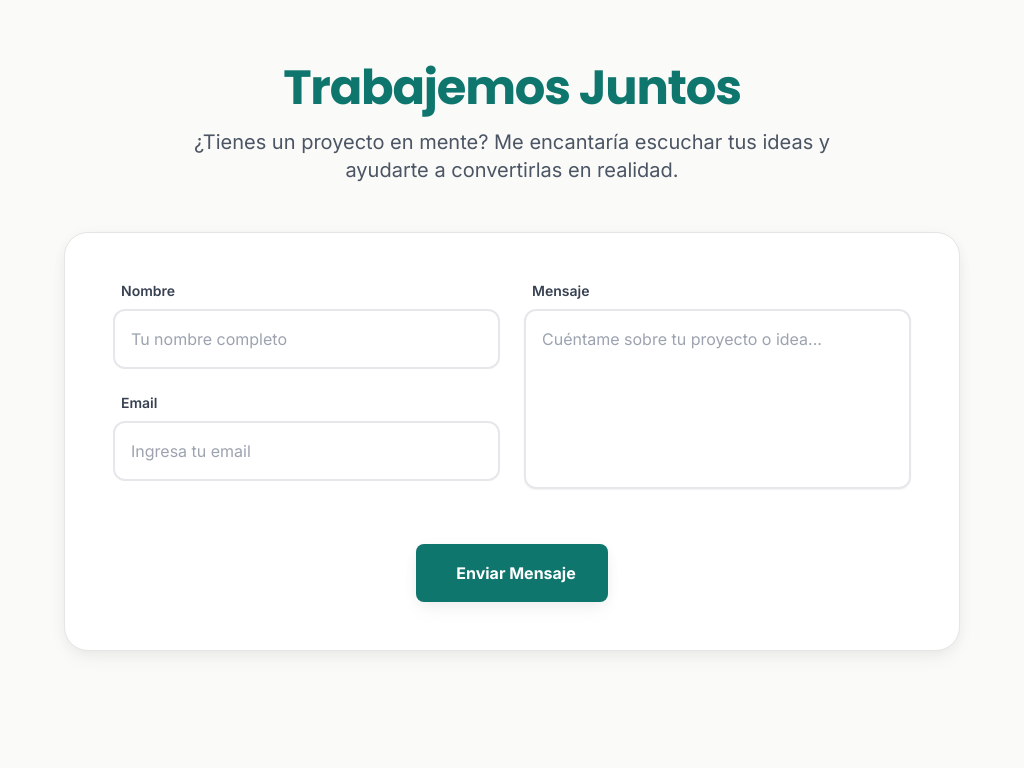
it: CallToAction.vue › form rendering and user interaction › should show validation messages on empty submit
Click the button "Enviar Mensaje": (512, 573) left=416, top=544, right=608, bottom=602
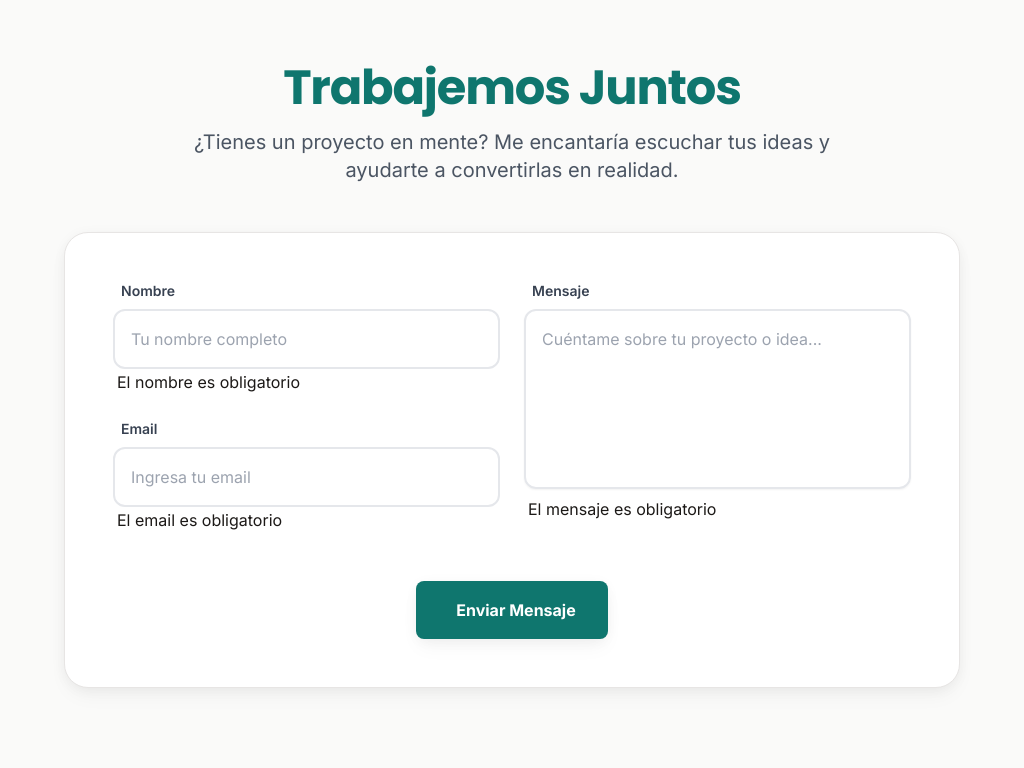
Now the text "El nombre es obligatorio" is shown, box left=117, top=372, right=300, bottom=392
Now the text "El email es obligatorio" is shown, box left=117, top=510, right=282, bottom=530
Now the text "El mensaje es obligatorio" is shown, box left=528, top=499, right=716, bottom=519
